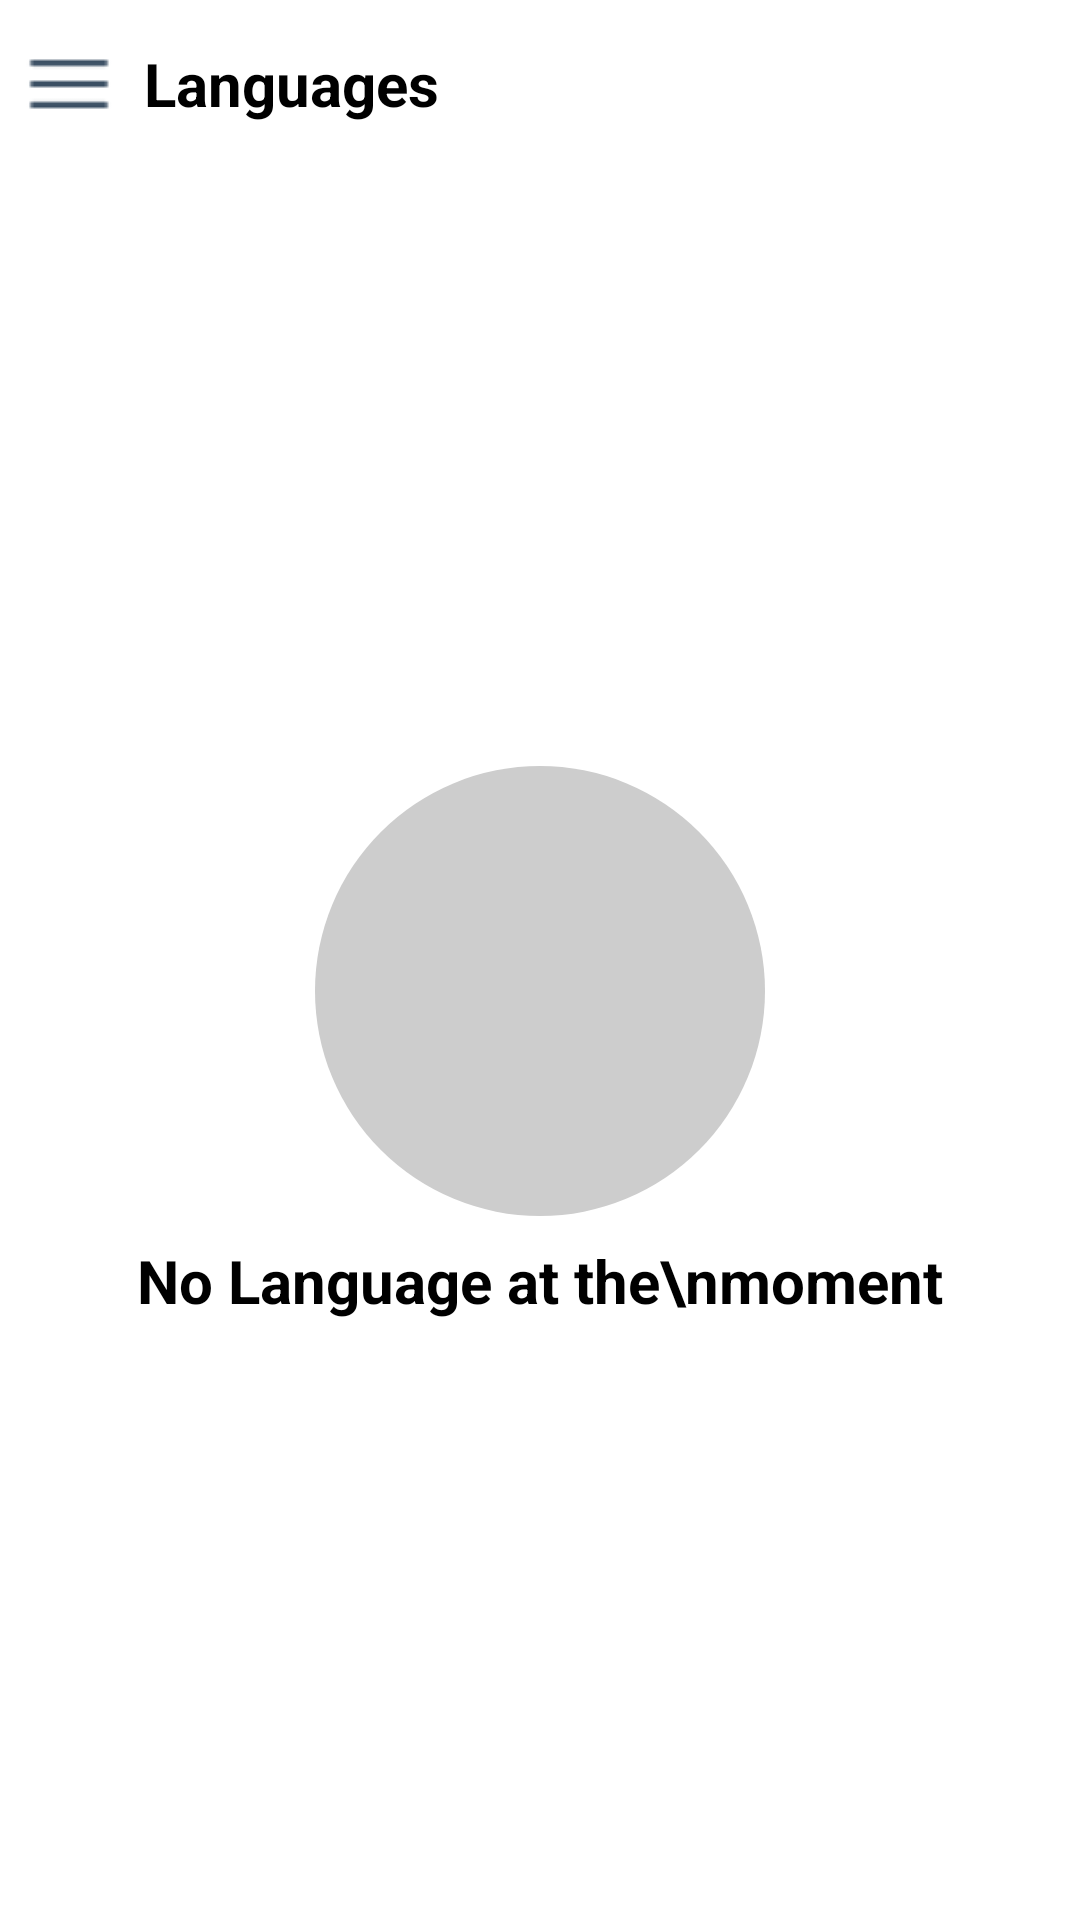

Screen size 1080*1920. Icon name, then its center in pixels as point (x, y):
menu: point (69, 84)
